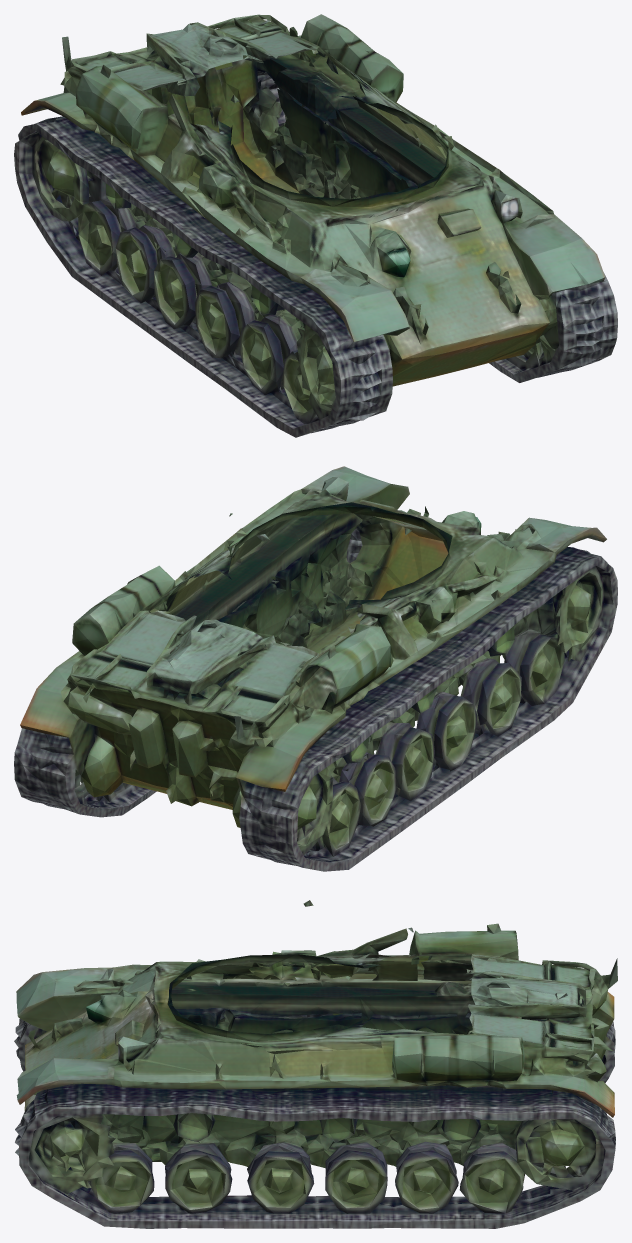
File: kv85_hull.obj
The picture shows the model from 3 angles, top to bottom: view 1: azimuth 30°, elevation 25°; view 2: azimuth 150°, elevation 25°; view 3: azimuth 270°, elevation 25°; orthographic projection. The views are drawn at different scales.
Visible parts, largest first — view 1: kv85_hull; view 2: kv85_hull; view 3: kv85_hull.
Boxes of the visible parts, x1,y1,x2,y2 form: kv85_hull: (14,14,617,437); kv85_hull: (14,466,617,871); kv85_hull: (14,900,617,1228).
Size of the model in its own units: 3.27 by 2.94 by 6.7.
1 material, 1 textured.
